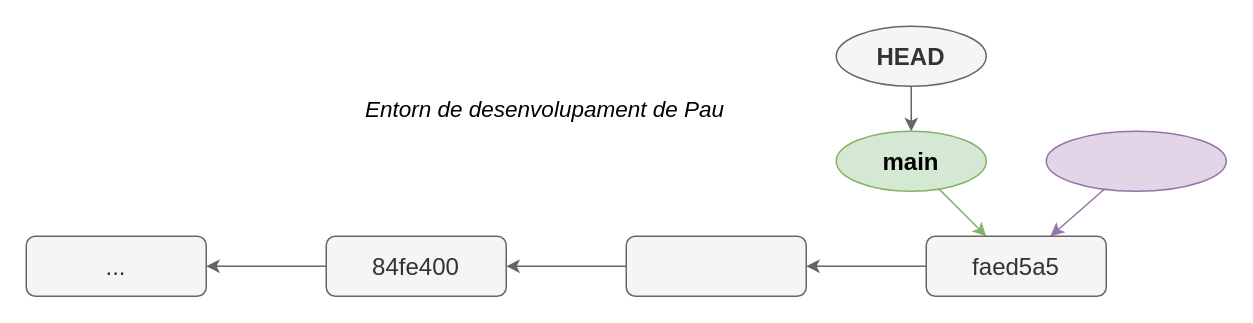
The diagram is 1253 pixels wide and 323 high, and some of its shapes have lost their labels. Here are the shapes that lost their labels. From the top down, the centre of each, then its label:
point (1135, 160): origin/main
point (715, 265): 23bbe2
